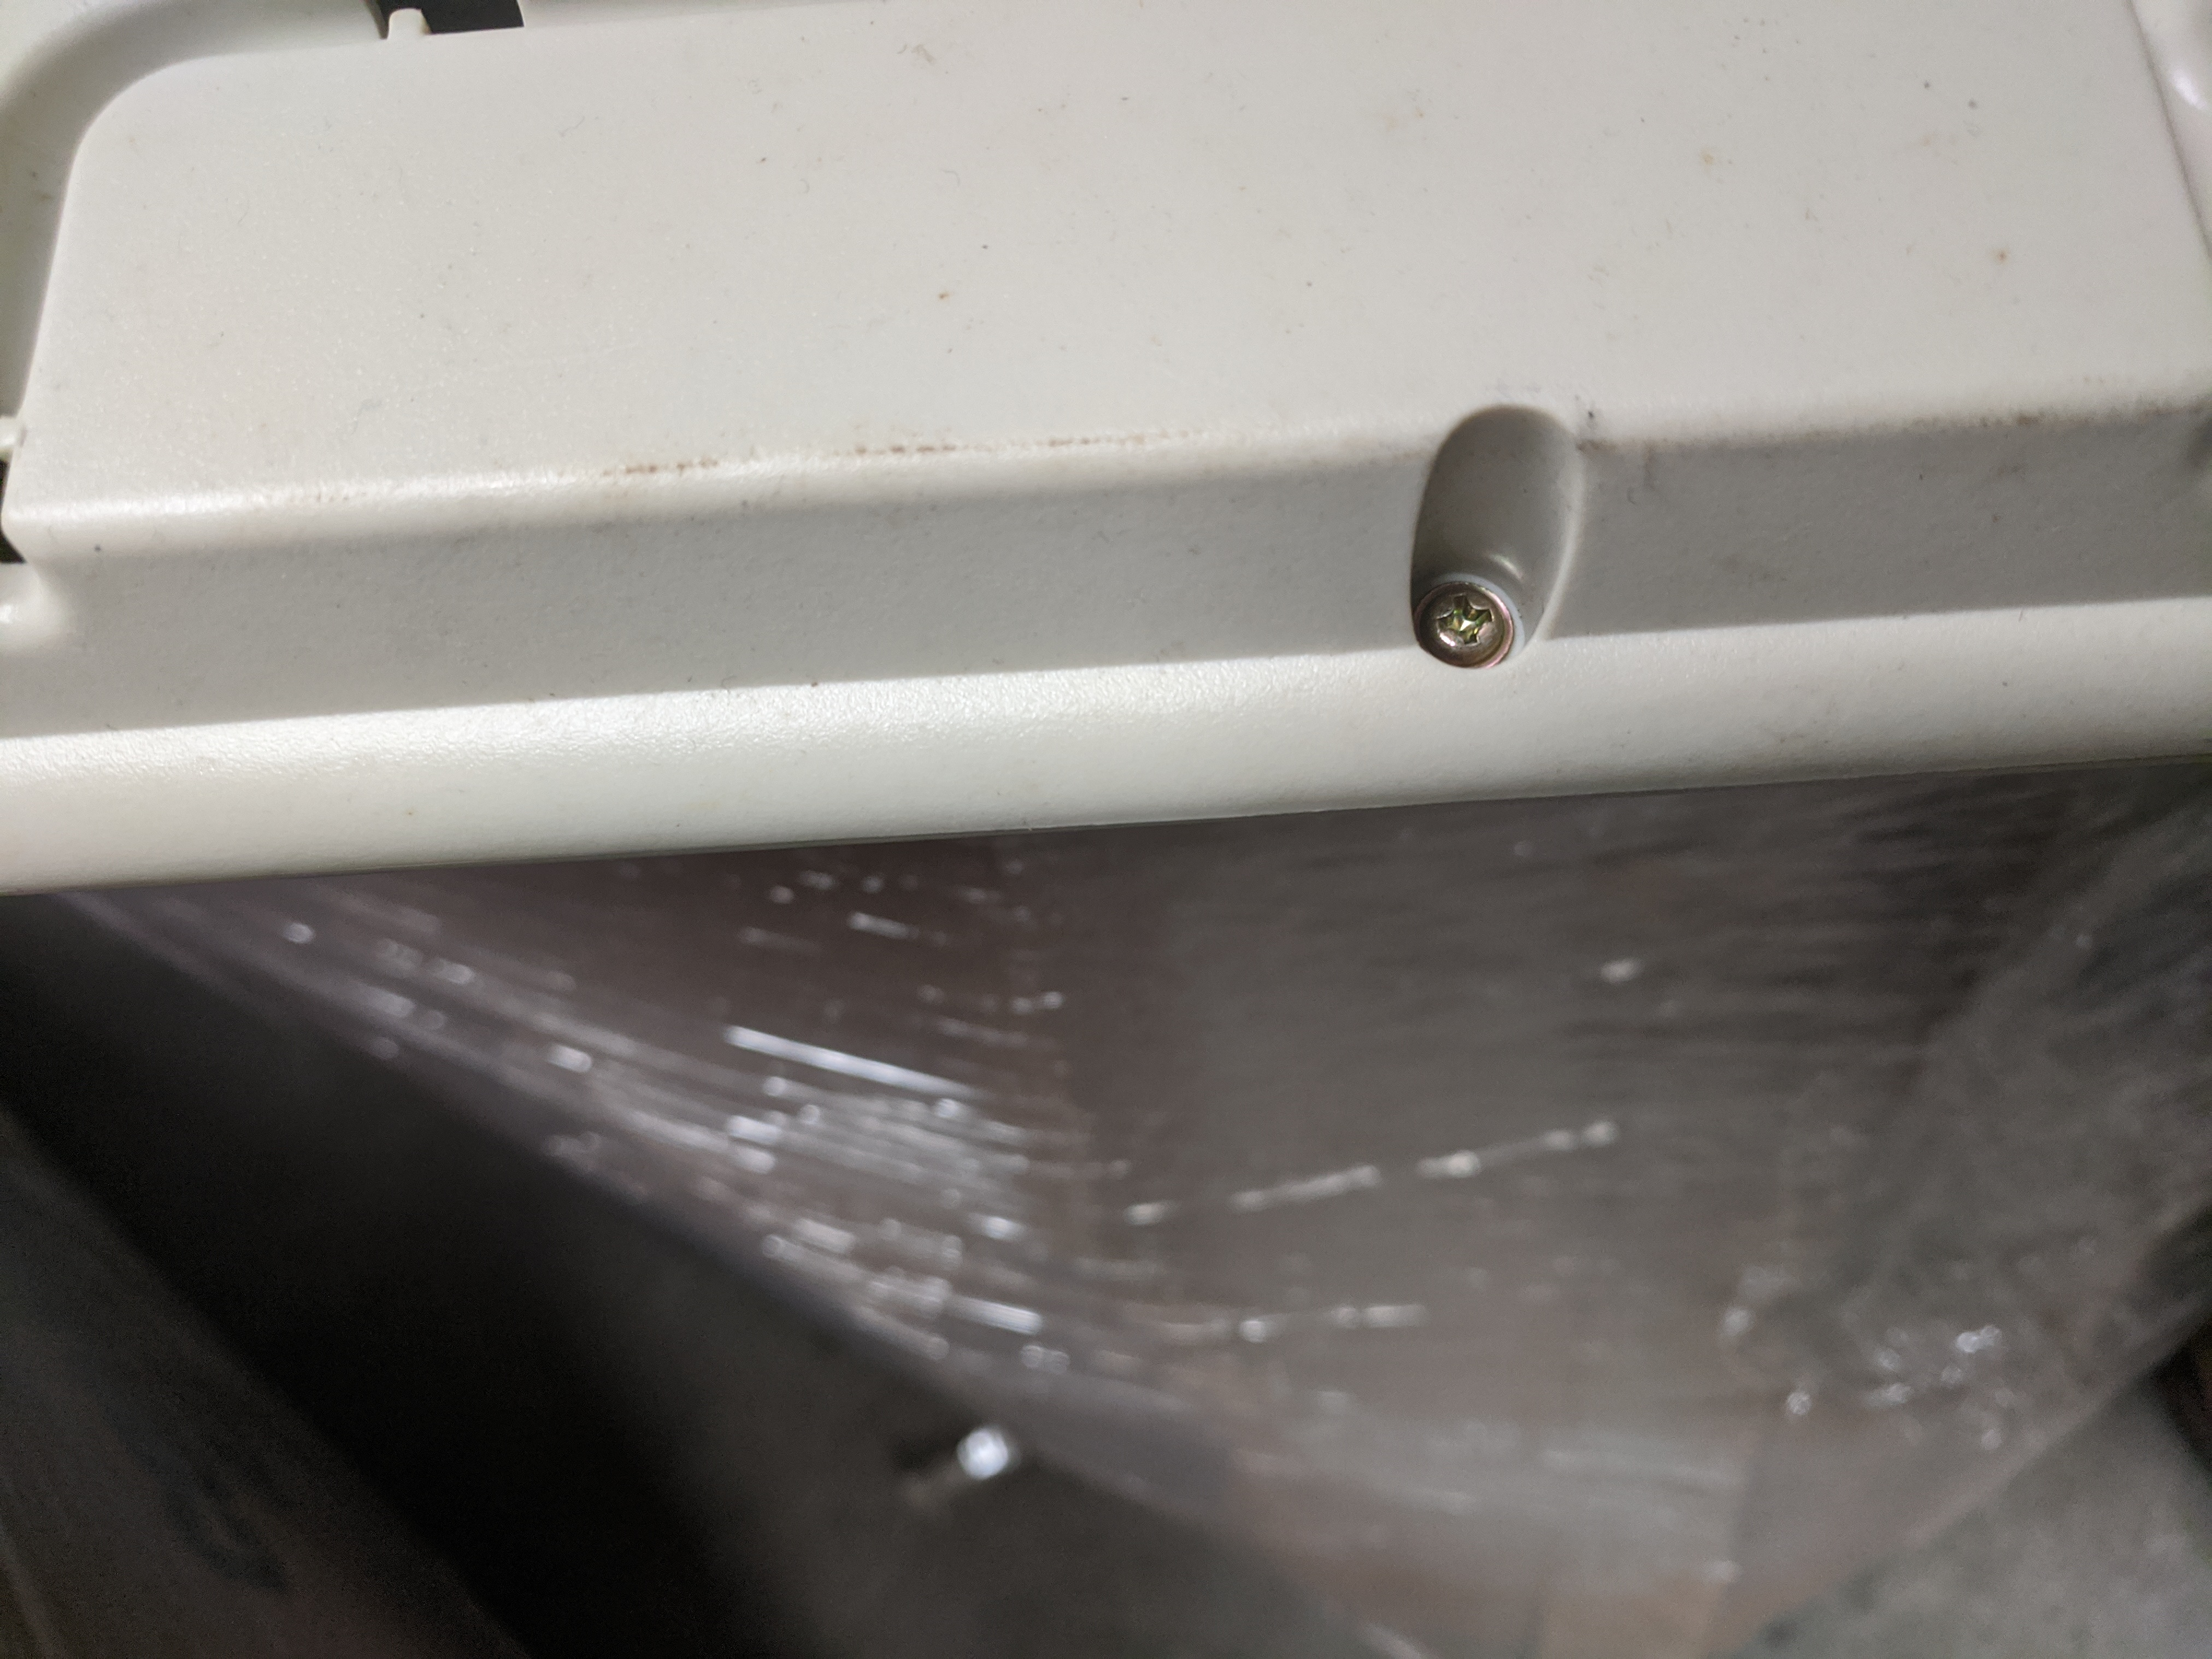cross_recessed_screw: (1416, 556, 1524, 666)
